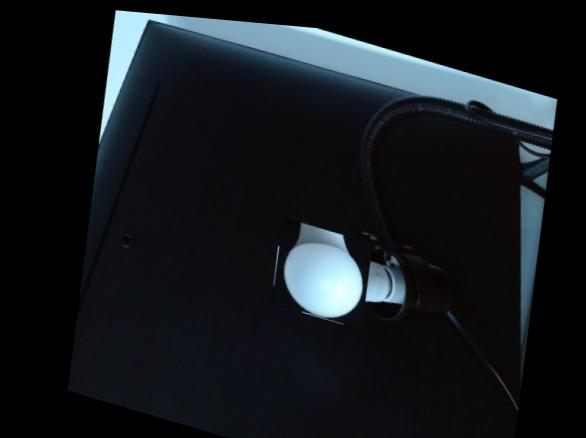Fan: (261, 210, 375, 325)
